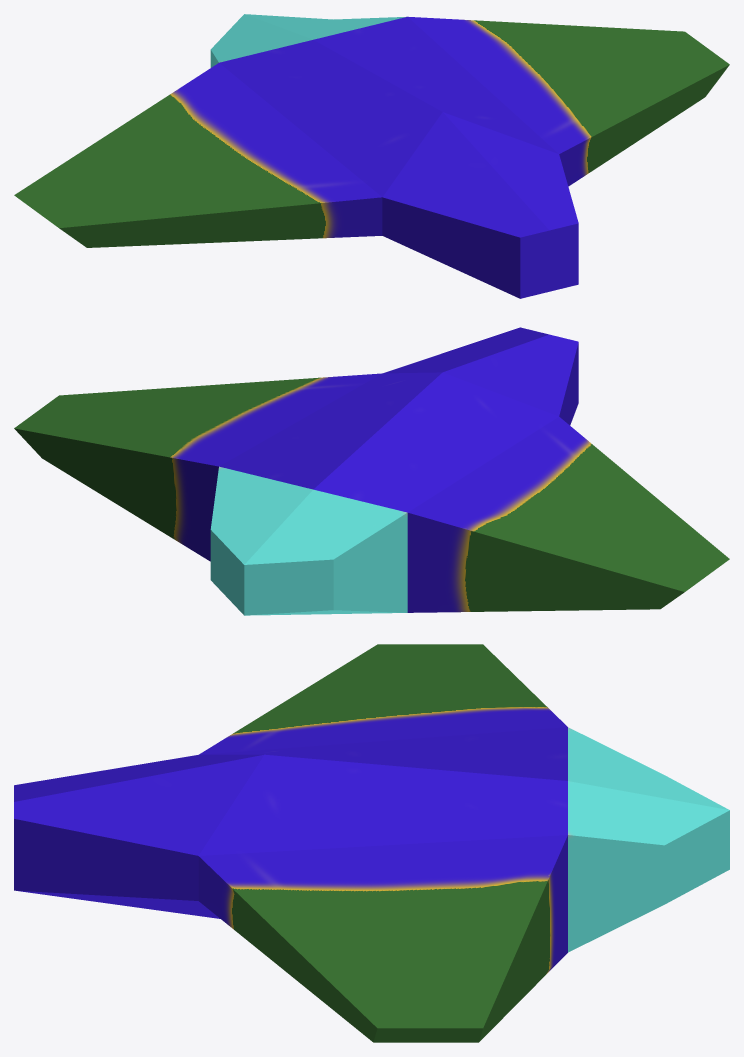
File: basic_spaceship.gltf
The picture shows the model from 3 angles, top to bottom: view 1: azimuth 30°, elevation 25°; view 2: azimuth 150°, elevation 25°; view 3: azimuth 270°, elevation 25°; orthographic projection. The views are drawn at different scales.
Parts seen in each view (by area): view 1: Cube; view 2: Cube; view 3: Cube.
Part boxes in pixels (x1,y1,x2,y2): Cube: (14,14,729,298); Cube: (14,327,729,615); Cube: (14,644,729,1042).
Size of the model in its own units: 0.91 by 0.1883 by 0.7171.
1 material, 1 textured.
